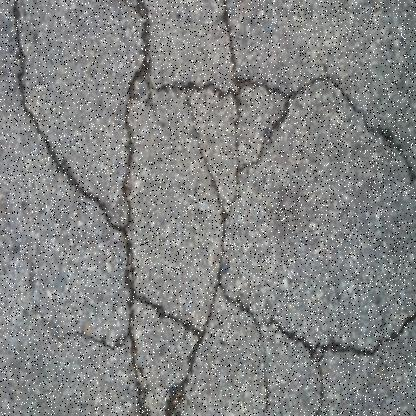Cracks: (8, 0, 248, 416), (234, 0, 415, 415)
